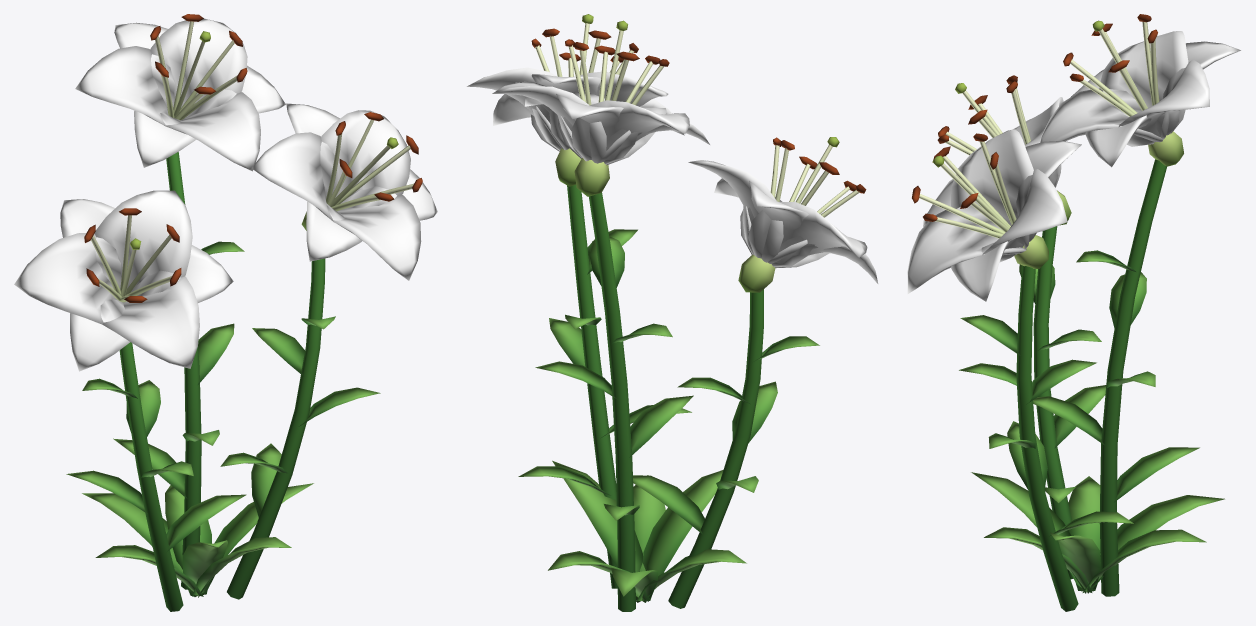
File: flower_lily.glb
3 renders of one model, left to right at view 1: azimuth 30°, elevation 25°; view 2: azimuth 150°, elevation 25°; view 3: azimuth 270°, elevation 25°, orthographic. The views are drawn at different scales.
Parts seen in each view (by area): view 1: flower_lily_top, flower_lily; view 2: flower_lily, flower_lily_top; view 3: flower_lily, flower_lily_top.
Boxes of the visible parts, bbox=[...] form: flower_lily_top: bbox=[14, 18, 437, 371]; flower_lily: bbox=[66, 14, 422, 611]; flower_lily: bbox=[518, 14, 866, 611]; flower_lily_top: bbox=[467, 67, 878, 283]; flower_lily: bbox=[912, 14, 1224, 611]; flower_lily_top: bbox=[907, 31, 1240, 301].
Bounding box in the file's own units: 0.4111 × 0.567 × 0.2961.
